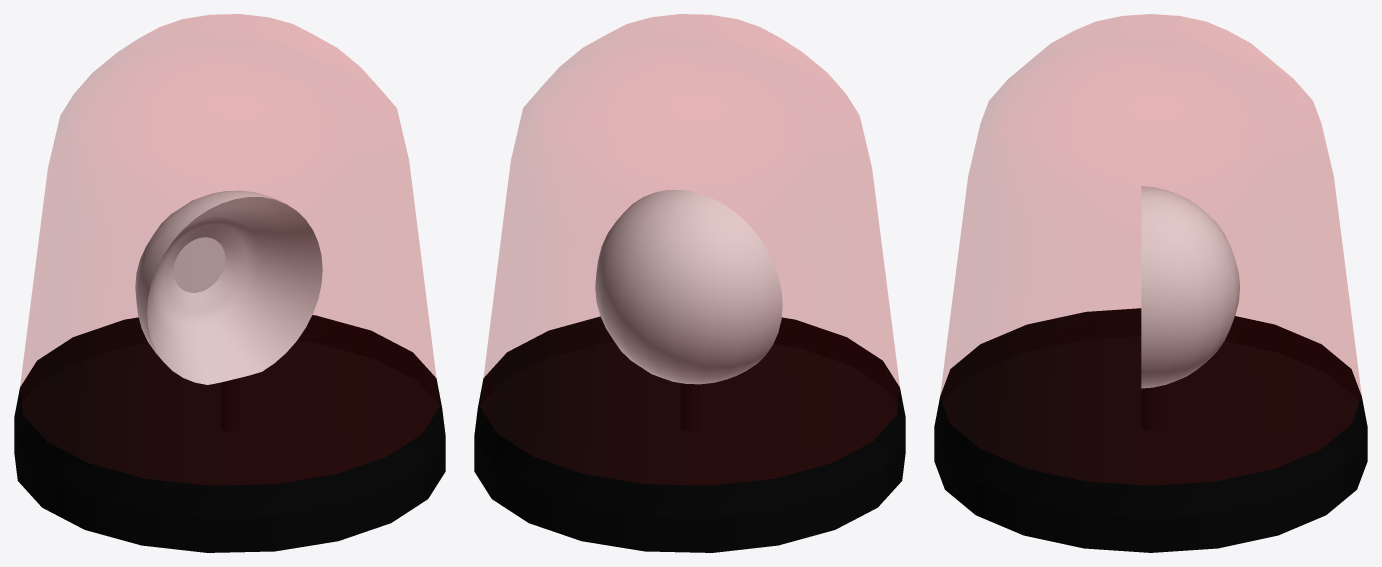
File: Siren_Light_Draft.fbx
3 views of the same model, side by side, from view 1: azimuth 30°, elevation 25°; view 2: azimuth 150°, elevation 25°; view 3: azimuth 270°, elevation 25° (orthographic).
Parts seen in each view (by area): view 1: pCylinder5, pSphere1, pCylinder6; view 2: pCylinder5, pSphere1, pCylinder6; view 3: pCylinder5, pSphere1, pCylinder6.
Boxes of the visible parts, x1=… form: pCylinder5: x1=14, y1=14, x2=445, y2=552; pSphere1: x1=135, y1=190, x2=322, y2=384; pCylinder6: x1=220, y1=378, x2=239, y2=431; pCylinder5: x1=474, y1=14, x2=905, y2=552; pSphere1: x1=595, y1=190, x2=782, y2=384; pCylinder6: x1=680, y1=383, x2=699, y2=431; pCylinder5: x1=934, y1=14, x2=1367, y2=552; pSphere1: x1=1141, y1=186, x2=1239, y2=388; pCylinder6: x1=1141, y1=386, x2=1160, y2=430.
Bounding box in the file's own units: 10.62 × 11.25 × 10.62.
